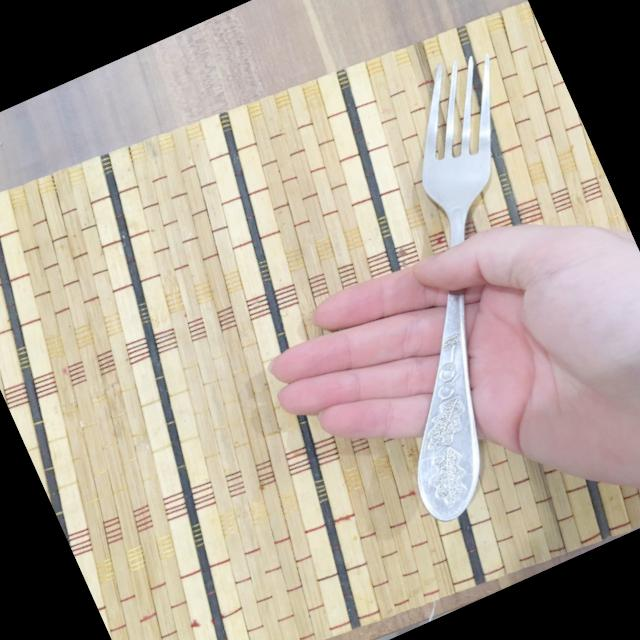fork: (265, 41, 640, 545)
